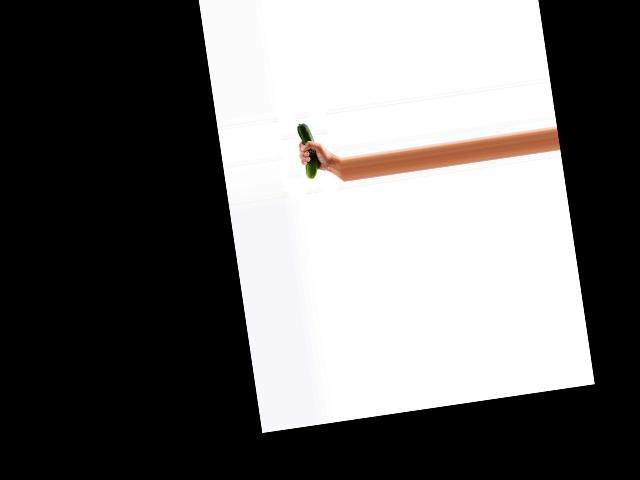cucumber: (295, 122, 320, 179)
